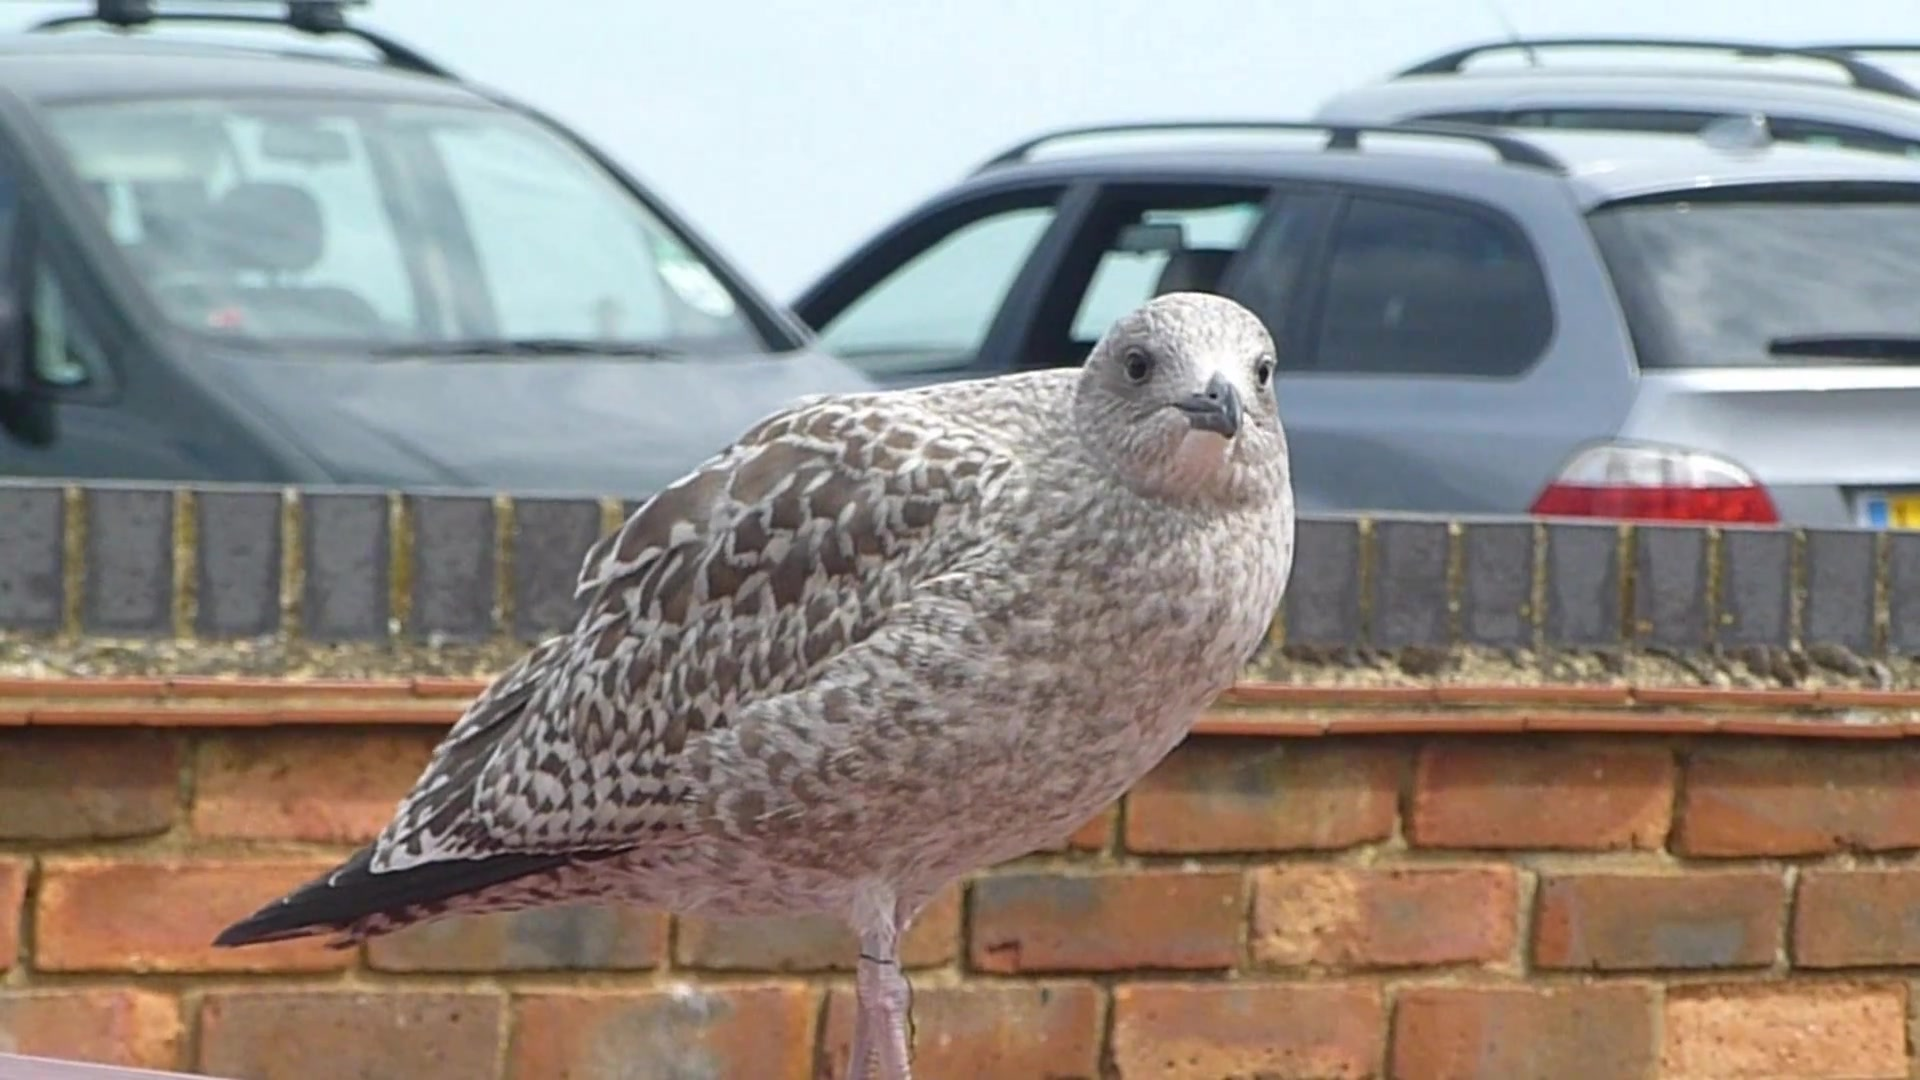bird: (216, 290, 1298, 1080)
